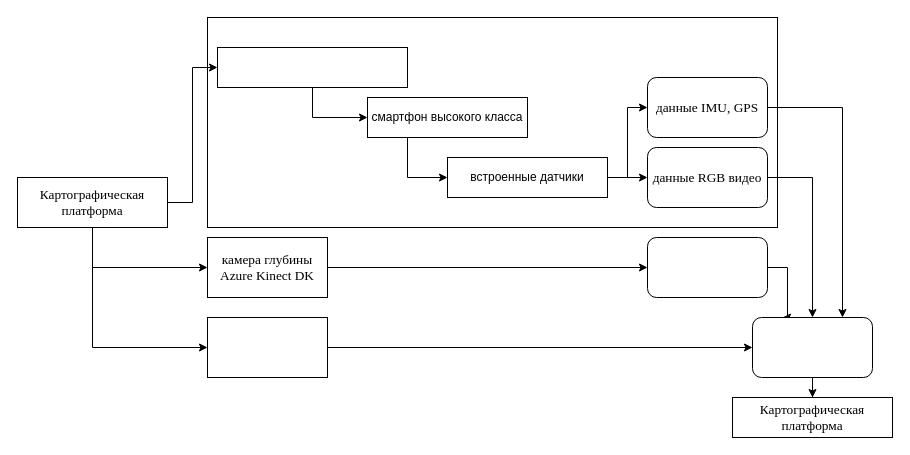
Some shapes in this 910 by 455 pixel diagram are drawn without their labels. Each missing label, with the box of its shape:
данные RGBD видео: (646, 236, 768, 298)
микроконтроллер MCU: (206, 316, 328, 378)
Мобильное устройство локализации: (216, 46, 408, 88)
синхронизация данных: (752, 316, 872, 378)
